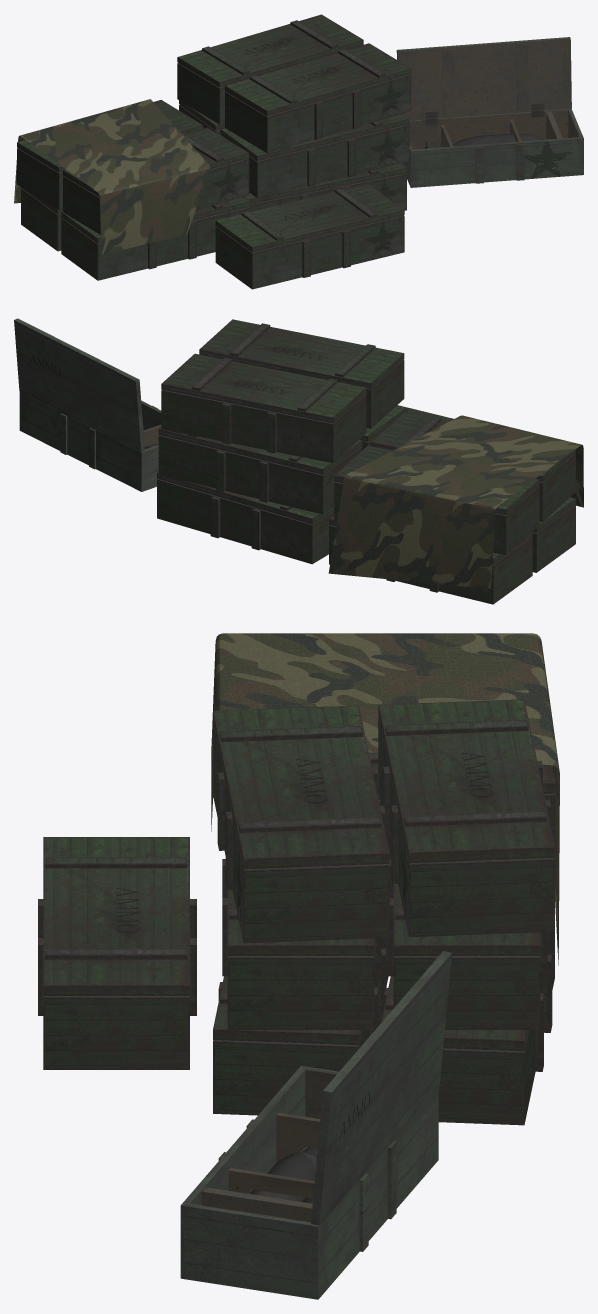
Rendered from ammo_pack.glb.
3 views of the same model, one above another, from view 1: azimuth 30°, elevation 25°; view 2: azimuth 150°, elevation 25°; view 3: azimuth 270°, elevation 25° (orthographic). The views are drawn at different scales.
Visible parts, largest first — view 1: object 2, Plane001, object 1, object 11, object 12, object 7, object 6, object 10, object 9, object 3, object 5, object 8; view 2: Plane001, object 12, object 2, object 8, object 11, object 4, object 9, object 10, object 5, object 6, object 7; view 3: object 2, object 11, object 12, object 1, Plane001, object 7, object 8, object 4, object 3.
Boxes of the visible parts, bbox=[...] form: object 2: bbox=[396, 37, 583, 187]; Plane001: bbox=[14, 99, 209, 254]; object 1: bbox=[215, 183, 404, 289]; object 11: bbox=[225, 43, 411, 153]; object 12: bbox=[177, 14, 363, 124]; object 7: bbox=[220, 113, 409, 198]; object 6: bbox=[61, 196, 250, 280]; object 10: bbox=[63, 127, 249, 234]; object 9: bbox=[17, 100, 203, 209]; object 3: bbox=[244, 163, 406, 211]; object 5: bbox=[21, 187, 62, 251]; object 8: bbox=[179, 100, 224, 135]; Plane001: bbox=[328, 415, 583, 588]; object 12: bbox=[161, 353, 366, 462]; object 2: bbox=[14, 318, 161, 491]; object 8: bbox=[158, 427, 362, 514]; object 11: bbox=[199, 319, 404, 428]; object 4: bbox=[157, 472, 334, 564]; object 9: bbox=[334, 445, 539, 554]; object 10: bbox=[370, 412, 575, 521]; object 5: bbox=[329, 515, 532, 604]; object 6: bbox=[532, 497, 575, 572]; object 7: bbox=[359, 405, 407, 449]; object 2: bbox=[180, 951, 451, 1299]; object 11: bbox=[213, 705, 389, 943]; object 12: bbox=[378, 699, 554, 937]; object 1: bbox=[38, 837, 196, 1069]; Plane001: bbox=[211, 633, 559, 965]; object 7: bbox=[222, 859, 381, 1029]; object 8: bbox=[388, 859, 547, 1029]; object 4: bbox=[381, 932, 554, 1125]; object 3: bbox=[213, 938, 388, 1115].
Size of the model in its own units: 157 by 41.29 by 70.11.
3 materials, 3 textured.
